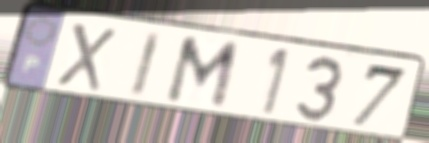1: (260, 46, 294, 121)
3: (292, 54, 347, 124)
7: (349, 61, 411, 128)
I: (126, 29, 165, 101)
M: (161, 34, 244, 114)
X: (52, 20, 119, 95)
